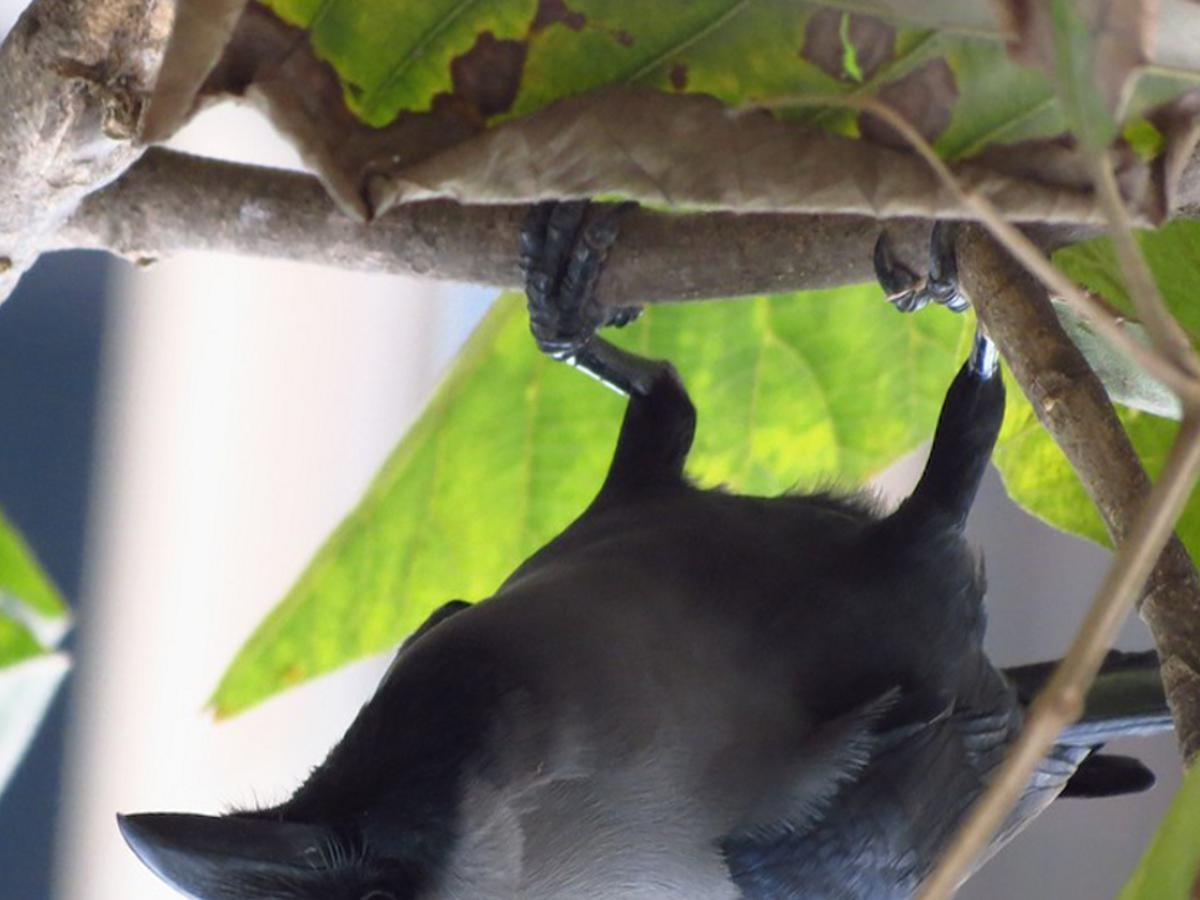crow: (100, 184, 1117, 900)
